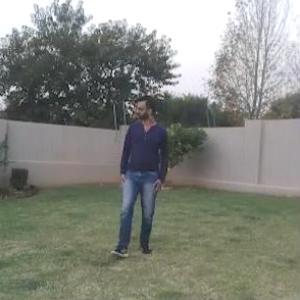follow: (118, 84, 168, 254)
